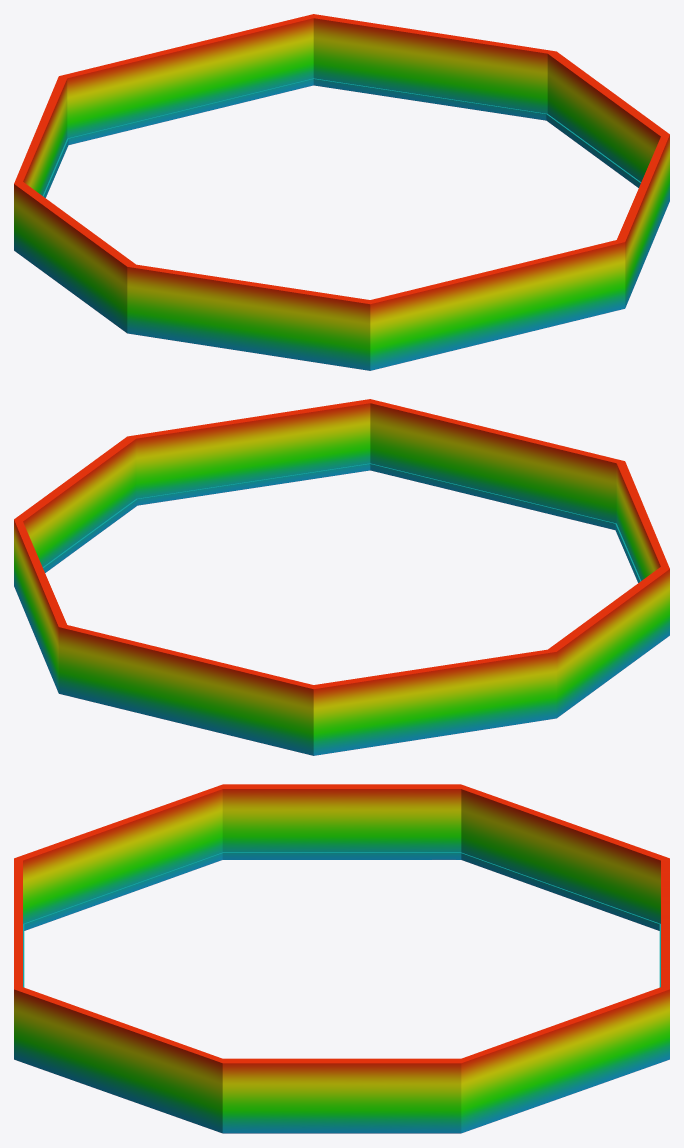
The model's file is weiqiang9.fbx.
3 views of the same model, one above another, from view 1: azimuth 30°, elevation 25°; view 2: azimuth 150°, elevation 25°; view 3: azimuth 270°, elevation 25° (orthographic). The views are drawn at different scales.
Parts seen in each view (by area): view 1: Level_11_walls_Environment_03_walls_wall_26_0; view 2: Level_11_walls_Environment_03_walls_wall_26_0; view 3: Level_11_walls_Environment_03_walls_wall_26_0.
Part boxes in pixels (<box>): Level_11_walls_Environment_03_walls_wall_26_0: <box>14,14,669,370</box>; Level_11_walls_Environment_03_walls_wall_26_0: <box>14,399,669,755</box>; Level_11_walls_Environment_03_walls_wall_26_0: <box>14,784,669,1133</box>.
Size of the model in its own units: 3093 by 363 by 3075.
